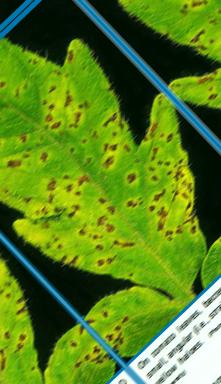Tomato leaf bacterial spot: (0, 0, 221, 355)
